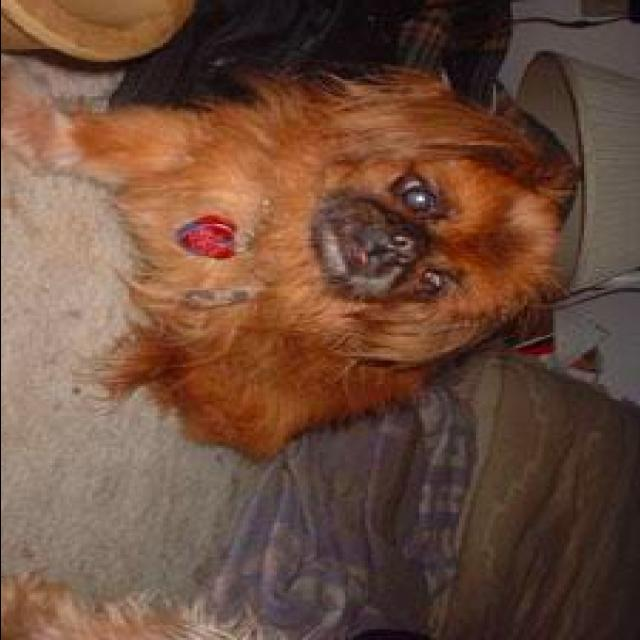pekinese: (2, 62, 580, 456)
